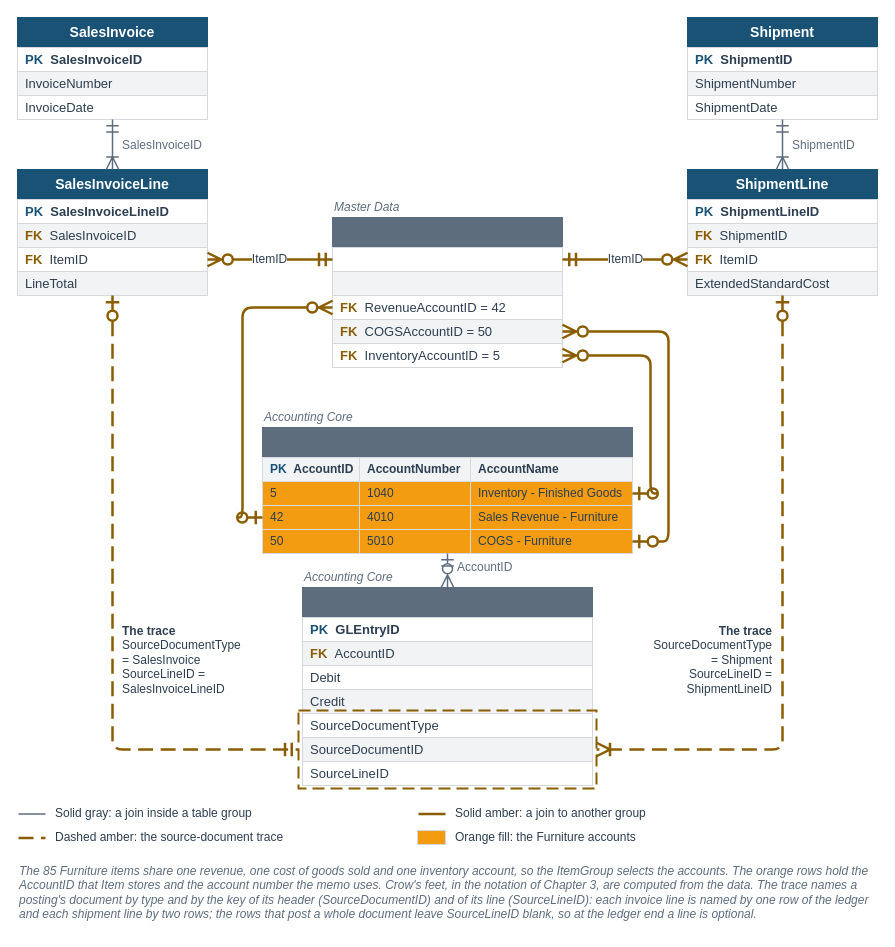
Image size: 895x947. Some labels were removed from this diagram. Each missing label, with the centre of its shape:
Account: point (447, 442)
GLEntry: point (447, 602)
Item: point (447, 232)
ItemGroup = Furniture: point (447, 283)
PK ItemID: point (447, 259)
